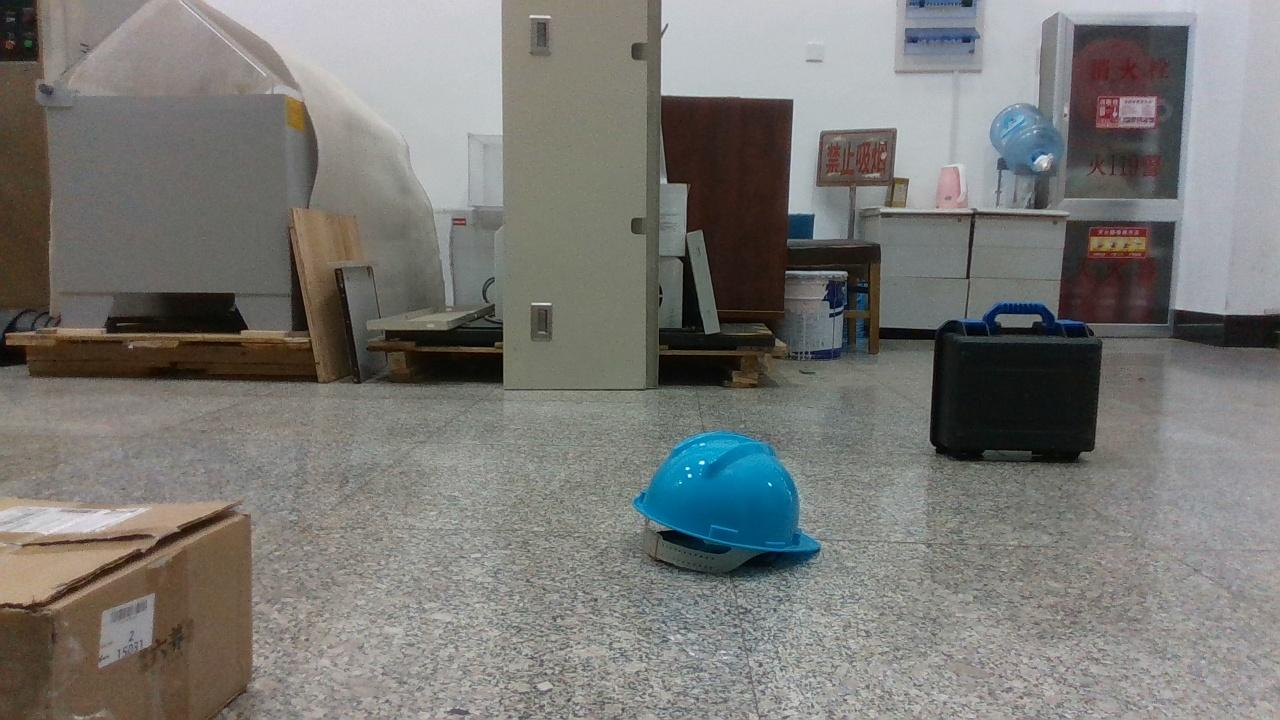box: (0, 498, 252, 716)
safehat: (632, 432, 820, 571)
toolkit: (930, 302, 1102, 460)
